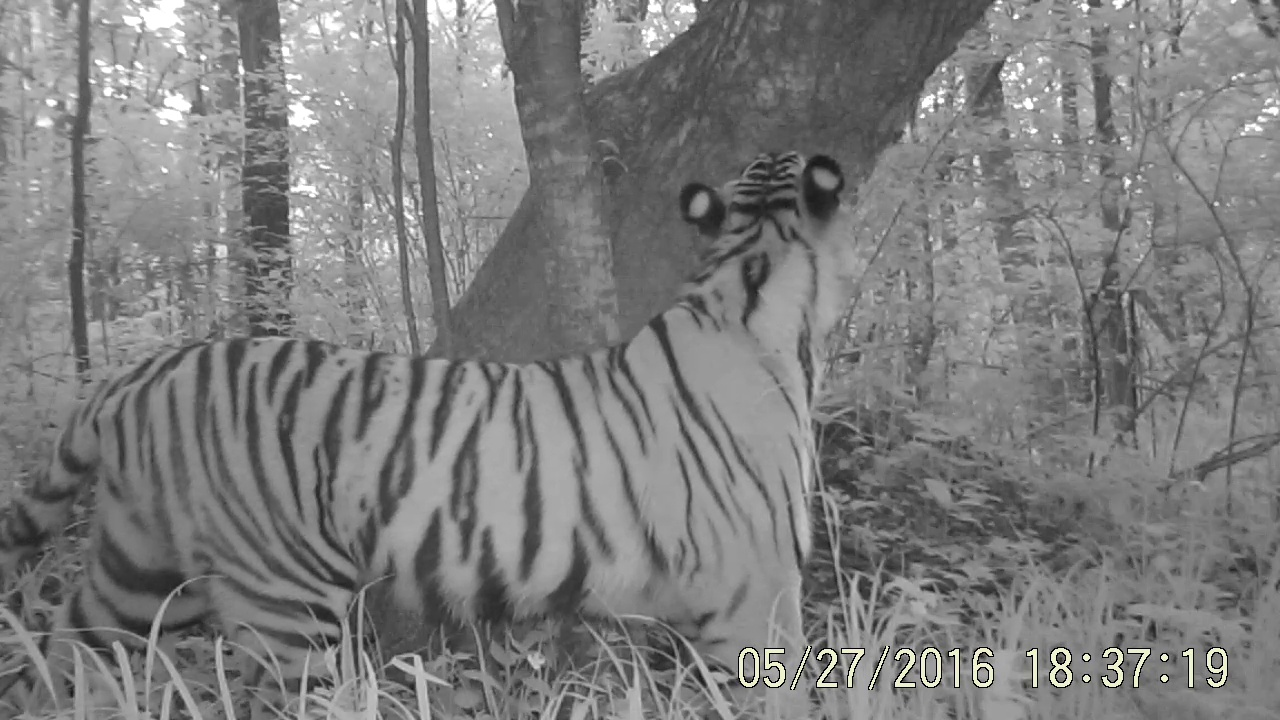Tiger: (2, 122, 880, 720)
